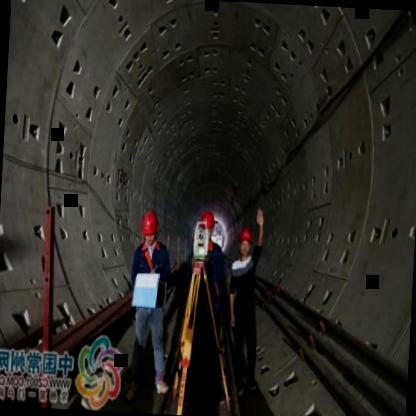helmet: (140, 207, 158, 244), (236, 224, 254, 255), (198, 209, 215, 241)
